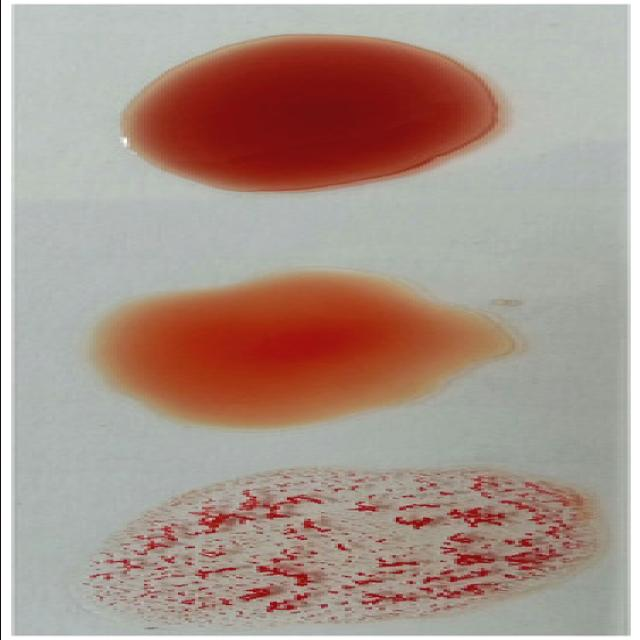D: (80, 466, 598, 623)
